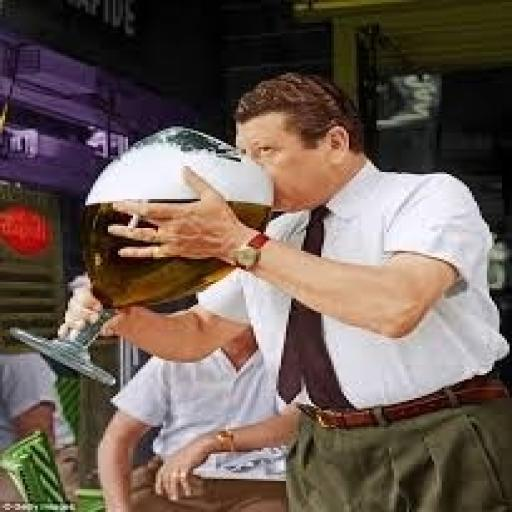drinking: (0, 39, 456, 450)
